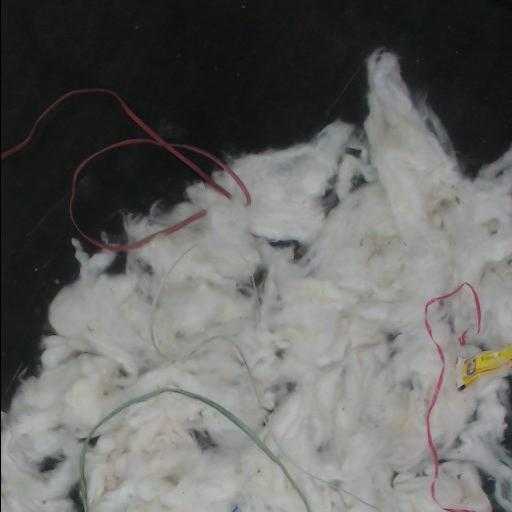conveyor belt: (1, 0, 512, 174), (1, 96, 142, 409), (75, 147, 197, 235)
cotton: (1, 51, 512, 511)
packet: (457, 345, 512, 389)
thread: (1, 88, 250, 251), (81, 388, 311, 511), (424, 282, 480, 511)
